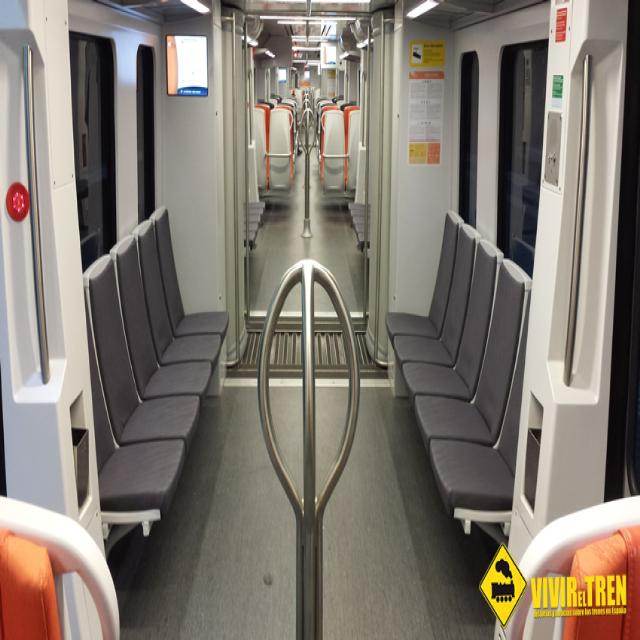seient: (429, 298, 529, 540), (84, 256, 200, 448), (415, 260, 531, 448), (88, 318, 185, 533), (110, 236, 211, 400), (402, 240, 502, 401), (134, 220, 221, 368), (394, 225, 480, 368), (151, 207, 229, 339), (387, 211, 461, 341)
